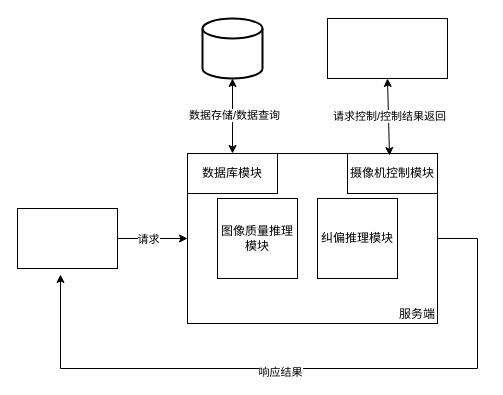
Some shapes in this 503 by 395 pixel diagram are drawn without their labels. The shapes that lost their labels are listed below. From the top down, each one's centre as x and y in pixels, then its label:
point (232, 48): 数据库
point (387, 48): 摄像机
point (67, 238): 用户浏览器
